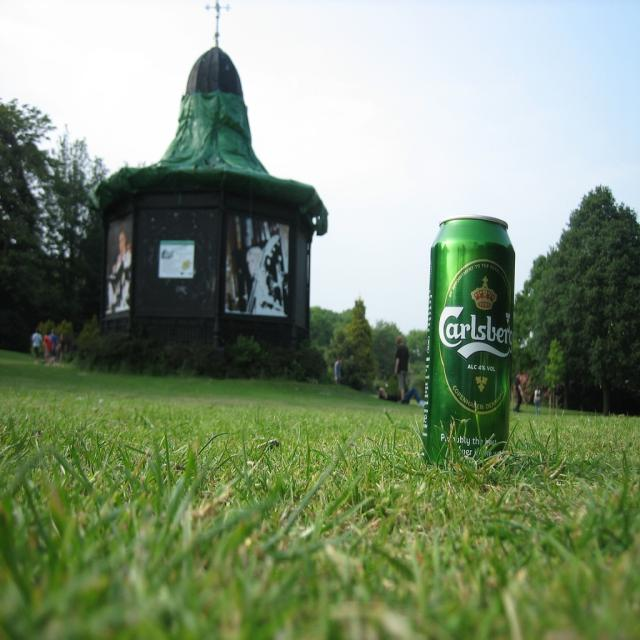carlsberg: (439, 259, 515, 416)
